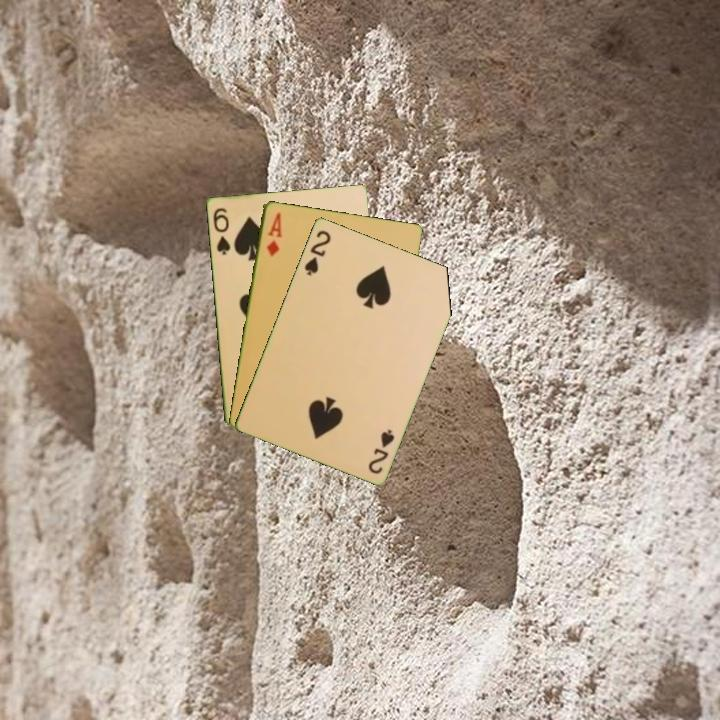2s: (301, 226, 334, 278), (364, 425, 397, 477)
6s: (209, 204, 233, 258)
Ad: (263, 209, 284, 259)
